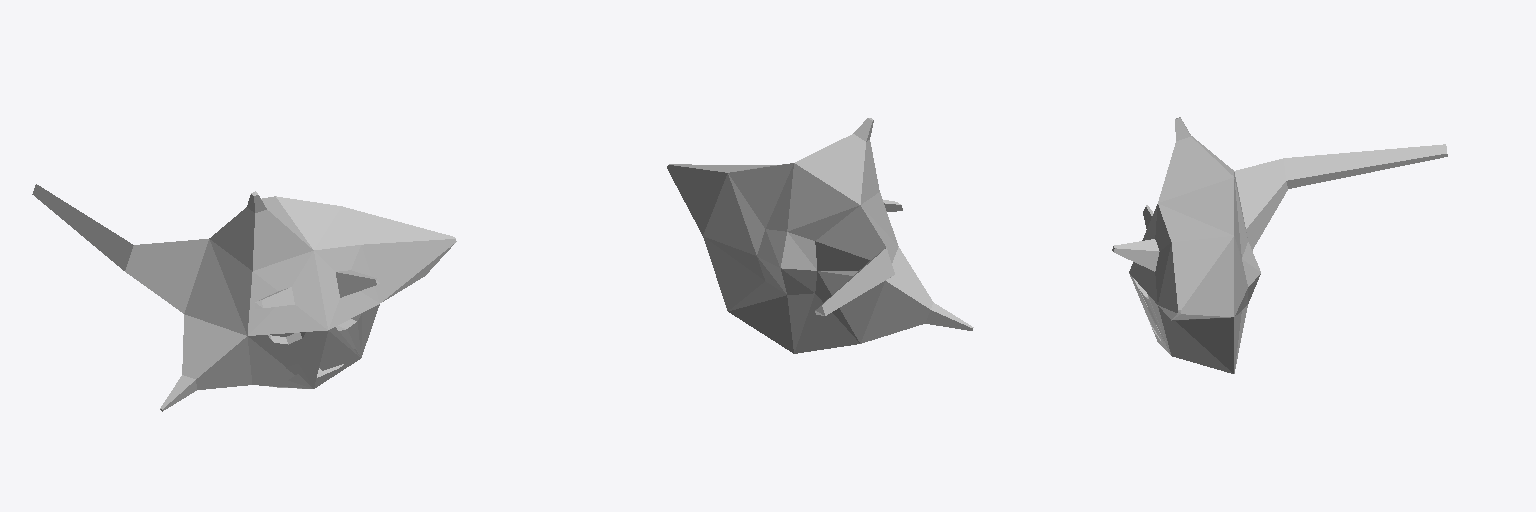
The model's file is enemy.obj.
3 renders of one model, left to right at view 1: azimuth 30°, elevation 25°; view 2: azimuth 150°, elevation 25°; view 3: azimuth 270°, elevation 25°, orthographic.
Visible parts, largest first — view 1: Cube; view 2: Cube; view 3: Cube.
Part boxes in pixels (bbox=[...]): Cube: bbox=[32, 184, 456, 411]; Cube: bbox=[667, 118, 973, 353]; Cube: bbox=[1112, 117, 1447, 373].
Size of the model in its own units: 9.05 by 6.54 by 8.76.